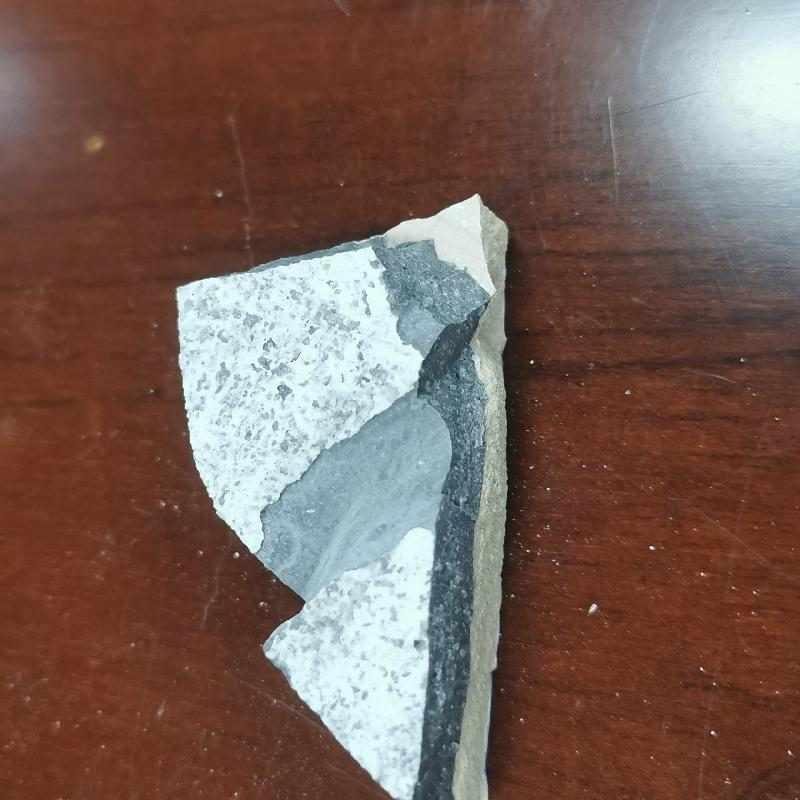tile: (167, 196, 516, 800)
